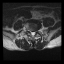CCS_stenosis: (32, 30, 33, 36)
LFS_severe_stenosis: (35, 29, 37, 34)
LLS_normal: (33, 30, 35, 35)
RFS_stenosis: (28, 28, 30, 33)
RLS_normal: (30, 30, 32, 36)
